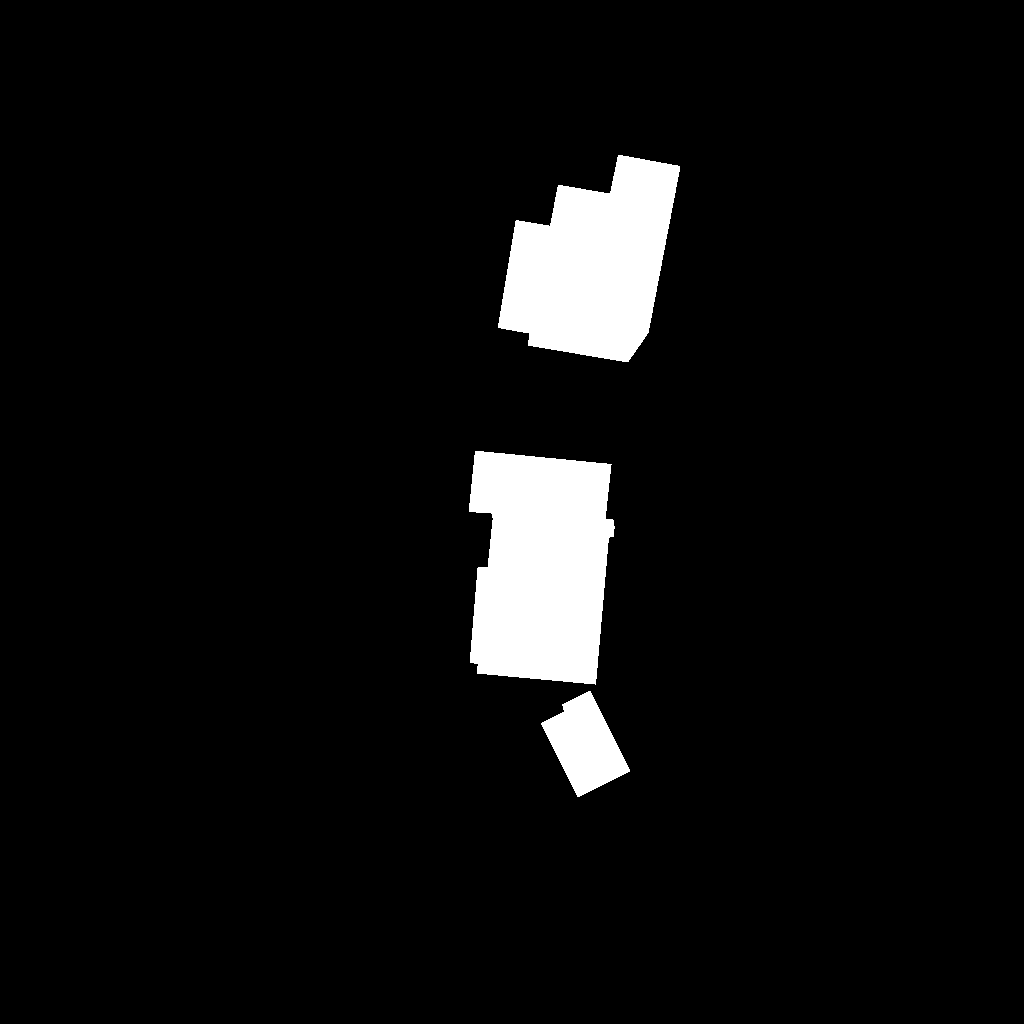building: (498, 155, 681, 363), (469, 451, 615, 685), (541, 691, 631, 798)
